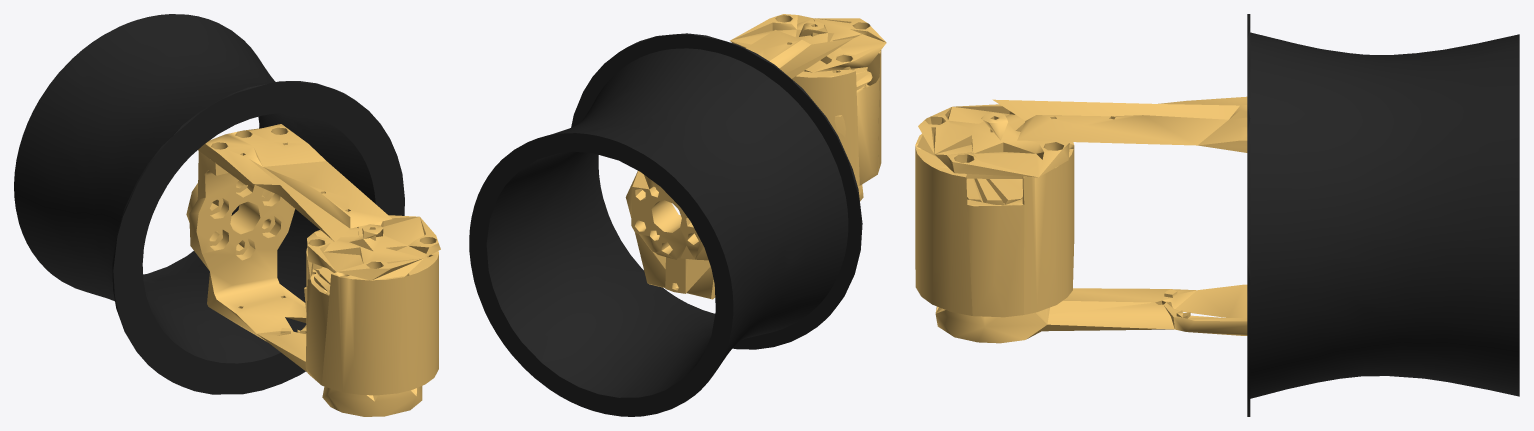
File: head_yaw_link.glb
The picture shows the model from 3 angles, left to right: view 1: azimuth 30°, elevation 25°; view 2: azimuth 150°, elevation 25°; view 3: azimuth 270°, elevation 25°; orthographic projection. The views are drawn at different scales.
Visible parts, largest first — view 1: head_roll_link.001, head_yaw_link; view 2: head_roll_link.001, head_yaw_link; view 3: head_roll_link.001, head_yaw_link.
Part boxes in pixels (x1,y1,x2,y2): head_roll_link.001: (14,14,404,394); head_yaw_link: (186,124,440,416); head_roll_link.001: (469,33,862,416); head_yaw_link: (625,14,886,299); head_roll_link.001: (1247,14,1519,416); head_yaw_link: (915,96,1247,343).
Bounding box in the file's own units: 0.1165 × 0.1165 × 0.1748.
